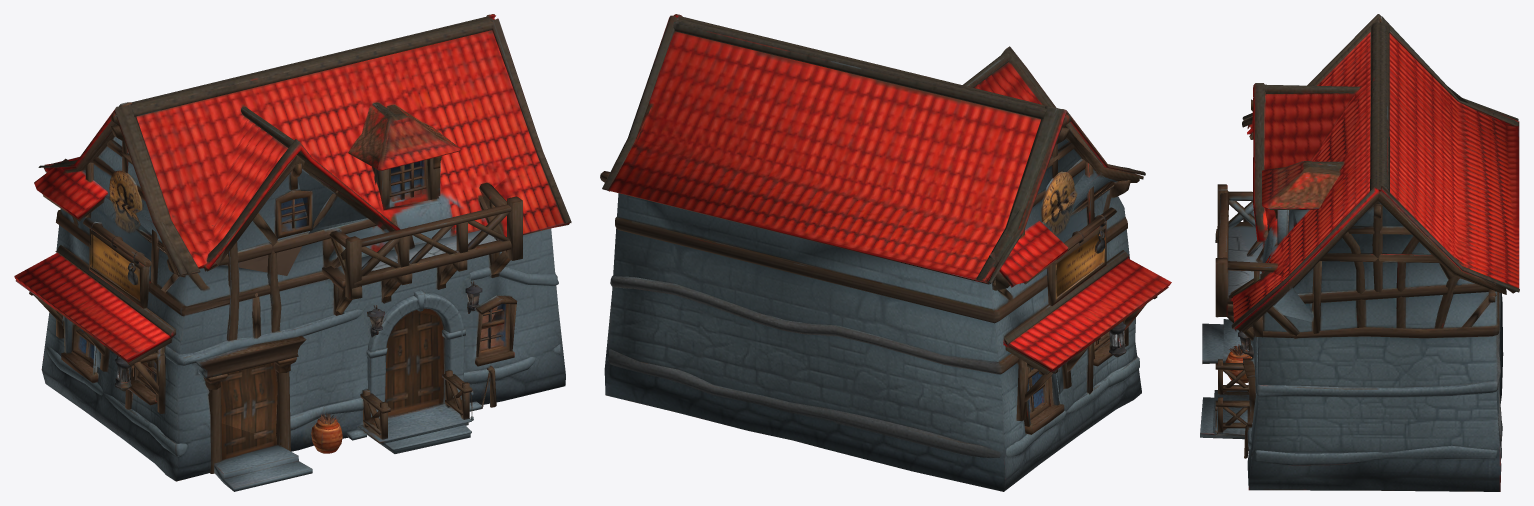
File: tavern_kargath.glb
3 views of the same model, side by side, from view 1: azimuth 30°, elevation 25°; view 2: azimuth 150°, elevation 25°; view 3: azimuth 270°, elevation 25° (orthographic). The views are drawn at different scales.
Size of the model in its own units: 0.9546 by 0.6812 by 0.646.
Materials: 1 (1 with a texture image).
